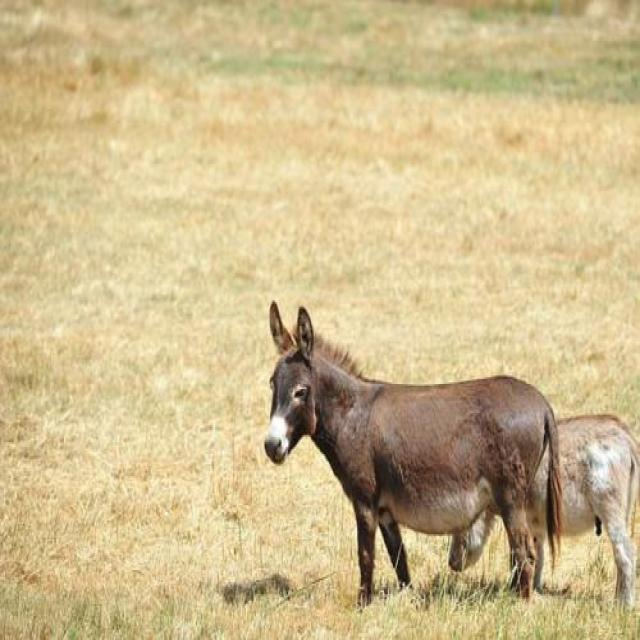Donkey: (263, 303, 564, 606), (450, 414, 640, 610)
